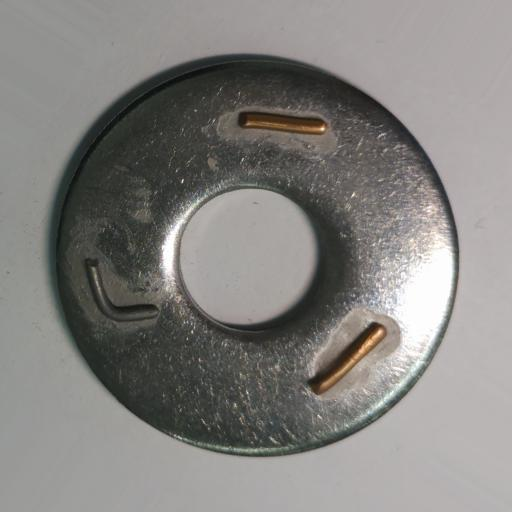excess_material: (307, 321, 389, 397), (82, 255, 164, 324), (238, 110, 329, 135)
